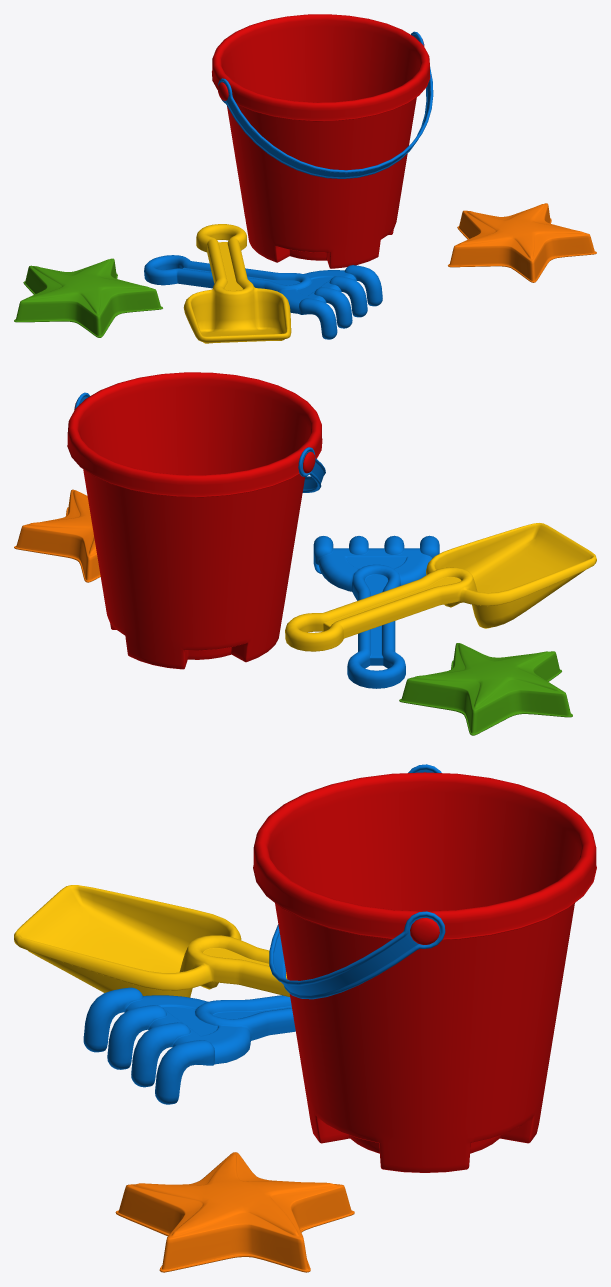
Rendered from decor_toys_toys1.glb.
3 renders of one model, top to bottom at view 1: azimuth 30°, elevation 25°; view 2: azimuth 150°, elevation 25°; view 3: azimuth 270°, elevation 25°, orthographic. The views are drawn at different scales.
Visible parts, largest first — view 1: bucket, shovel, rake, star_1, star_2; view 2: bucket, shovel, star_2, rake, star_1; view 3: bucket, shovel, star_1, rake.
Part boxes in pixels (x1,y1,x2,y2): bucket: [212, 14, 433, 268]; shovel: [183, 224, 291, 343]; rake: [144, 255, 382, 339]; star_1: [448, 203, 596, 282]; star_2: [14, 258, 162, 337]; bucket: [67, 372, 325, 669]; shovel: [285, 523, 596, 651]; star_2: [399, 643, 572, 735]; rake: [313, 535, 439, 688]; star_1: [14, 489, 100, 582]; bucket: [253, 764, 596, 1172]; shovel: [14, 885, 289, 997]; star_1: [115, 1152, 354, 1272]; rake: [83, 987, 295, 1104].
Size of the model in its own units: 0.6882 by 0.2373 by 0.4358.
1 material, 1 textured.
